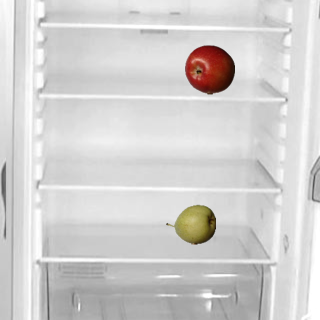Apple Braeburn: (184, 44, 234, 94)
Pear: (165, 199, 215, 249)
